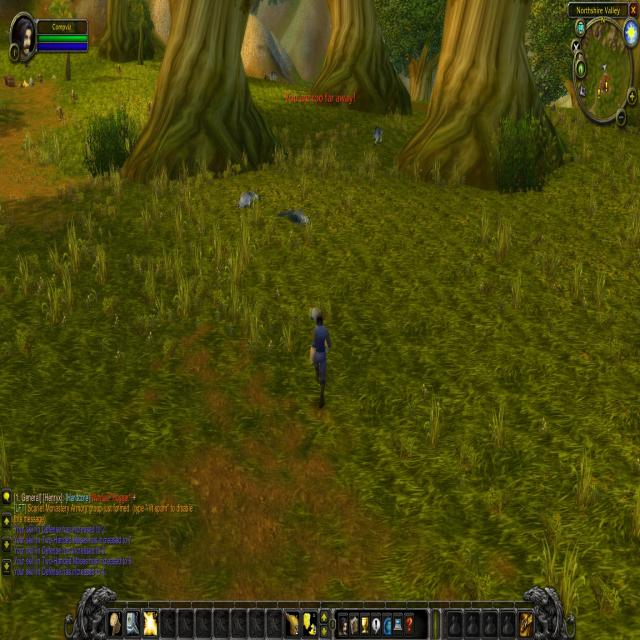wolf: (268, 201, 312, 233), (235, 182, 262, 218), (371, 119, 388, 151), (263, 66, 281, 88)
